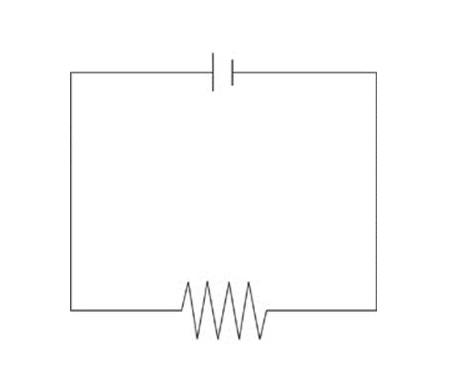resistor: (163, 261, 302, 350)
